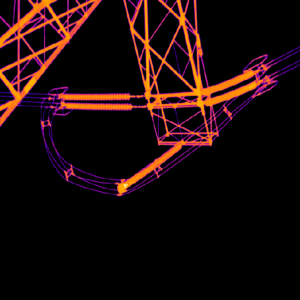insulator: (120, 141, 184, 192), (200, 69, 257, 105), (61, 93, 132, 110)
